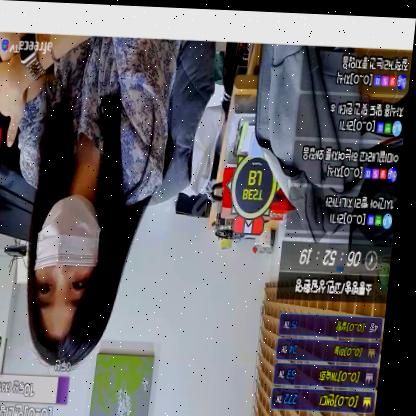streamer: (0, 33, 184, 372)
